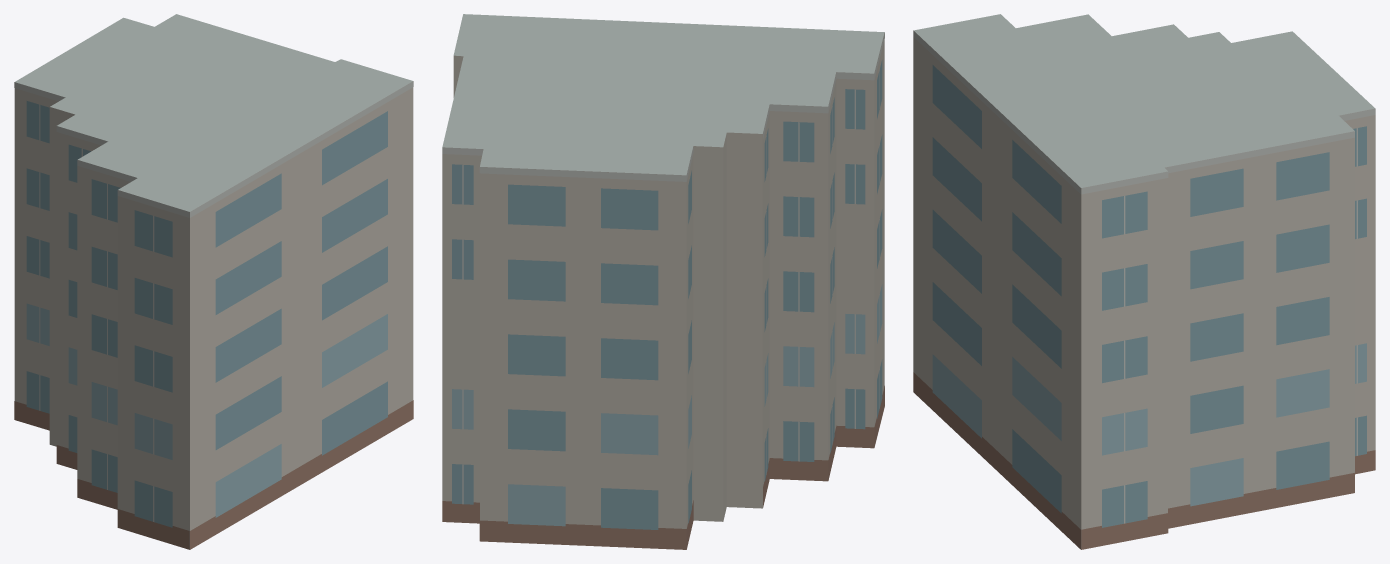
The model's file is survey-upis-32754951.glb.
3 renders of one model, left to right at view 1: azimuth 30°, elevation 25°; view 2: azimuth 150°, elevation 25°; view 3: azimuth 270°, elevation 25°, orthographic. The views are drawn at different scales.
Visible parts, largest first — view 1: survey-upis-32754951.tmp; view 2: survey-upis-32754951.tmp; view 3: survey-upis-32754951.tmp.
Boxes of the visible parts, x1,y1,x2,y2 form: survey-upis-32754951.tmp: [14, 14, 413, 549]; survey-upis-32754951.tmp: [442, 14, 884, 549]; survey-upis-32754951.tmp: [913, 14, 1375, 549].
Size of the model in its own units: 14.2 by 13.75 by 15.93.
